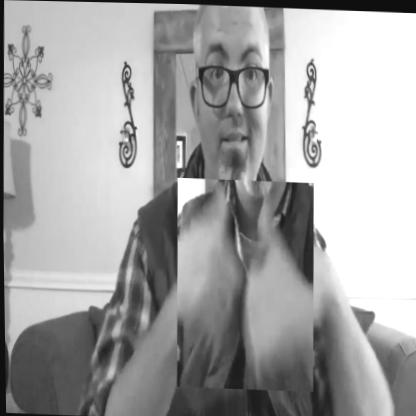HowAreYou: (173, 176, 315, 390)
